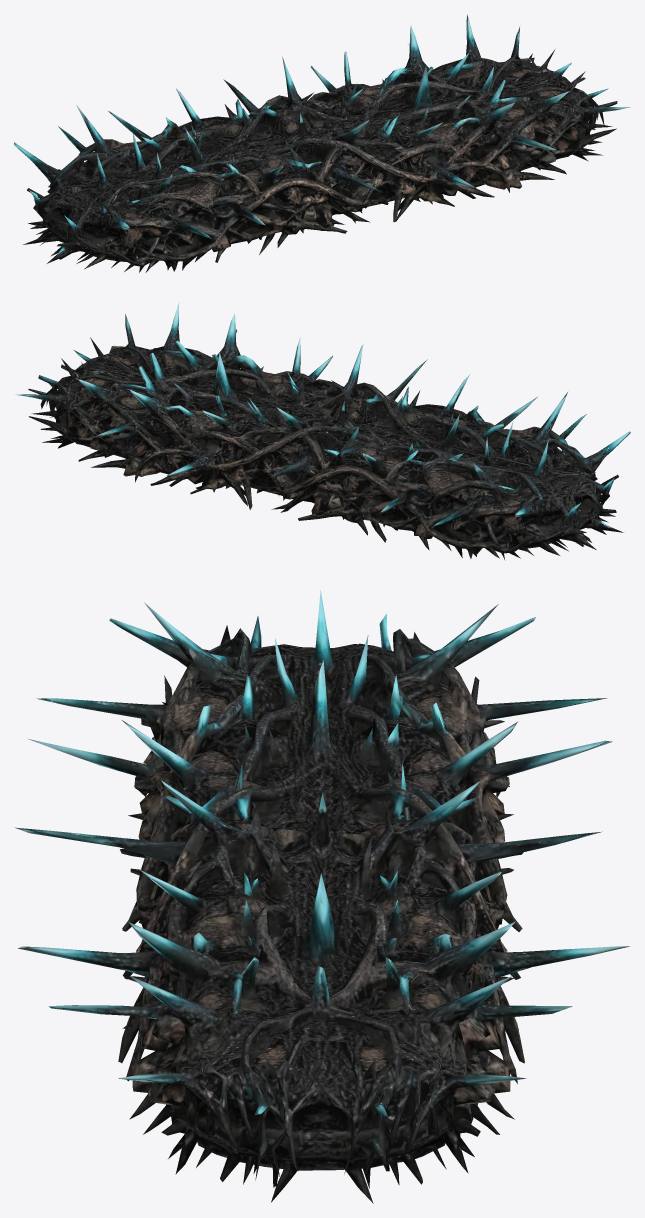
Rendered from spiky_barrier.glb.
The picture shows the model from 3 angles, top to bottom: view 1: azimuth 30°, elevation 25°; view 2: azimuth 150°, elevation 25°; view 3: azimuth 270°, elevation 25°; orthographic projection. The views are drawn at different scales.
Parts seen in each view (by area): view 1: tripo_node_f7af1117-5400-493d-a5d3-3483cf1a8630; view 2: tripo_node_f7af1117-5400-493d-a5d3-3483cf1a8630; view 3: tripo_node_f7af1117-5400-493d-a5d3-3483cf1a8630.
Boxes of the visible parts, x1=… form: tripo_node_f7af1117-5400-493d-a5d3-3483cf1a8630: x1=14, y1=14, x2=630, y2=272; tripo_node_f7af1117-5400-493d-a5d3-3483cf1a8630: x1=15, y1=302, x2=630, y2=560; tripo_node_f7af1117-5400-493d-a5d3-3483cf1a8630: x1=15, y1=590, x2=629, y2=1203.
Size of the model in its own units: 1 by 0.1695 by 0.5098.
Materials: 1 (1 with a texture image).
